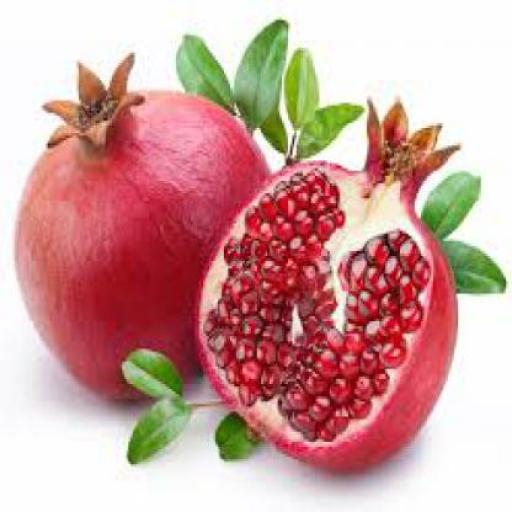biodegradable: (191, 96, 458, 470), (14, 50, 272, 399), (230, 20, 286, 128), (291, 100, 363, 168), (118, 392, 187, 462), (415, 170, 479, 240), (438, 238, 505, 301), (176, 30, 228, 108), (118, 341, 181, 397), (284, 45, 317, 126), (212, 412, 257, 457), (258, 110, 284, 148)
